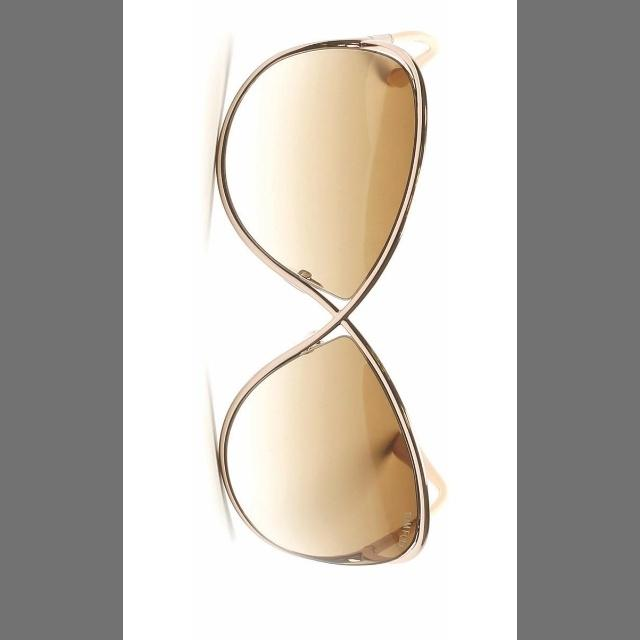Sunglasses: (167, 21, 485, 606)
